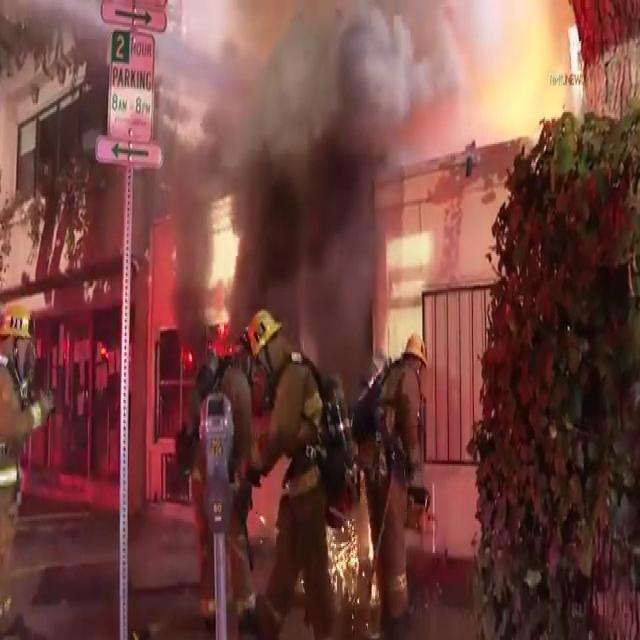Fire: (202, 192, 242, 338)
Smoke: (156, 0, 422, 308)
